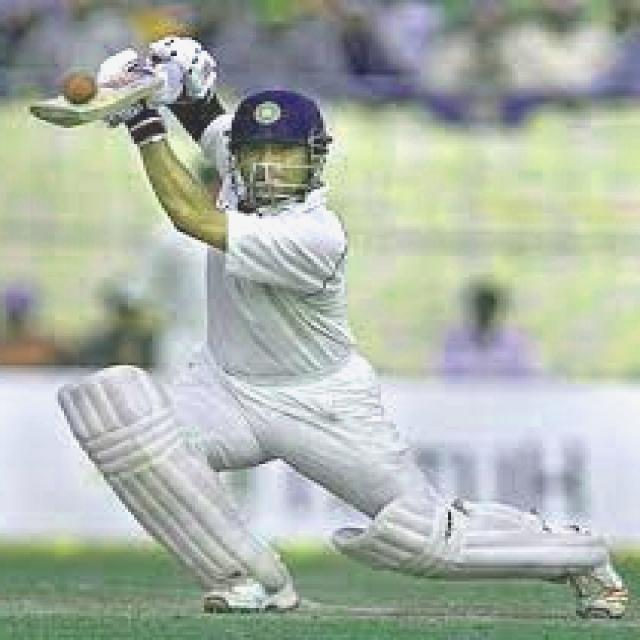toe: (28, 88, 98, 137)
